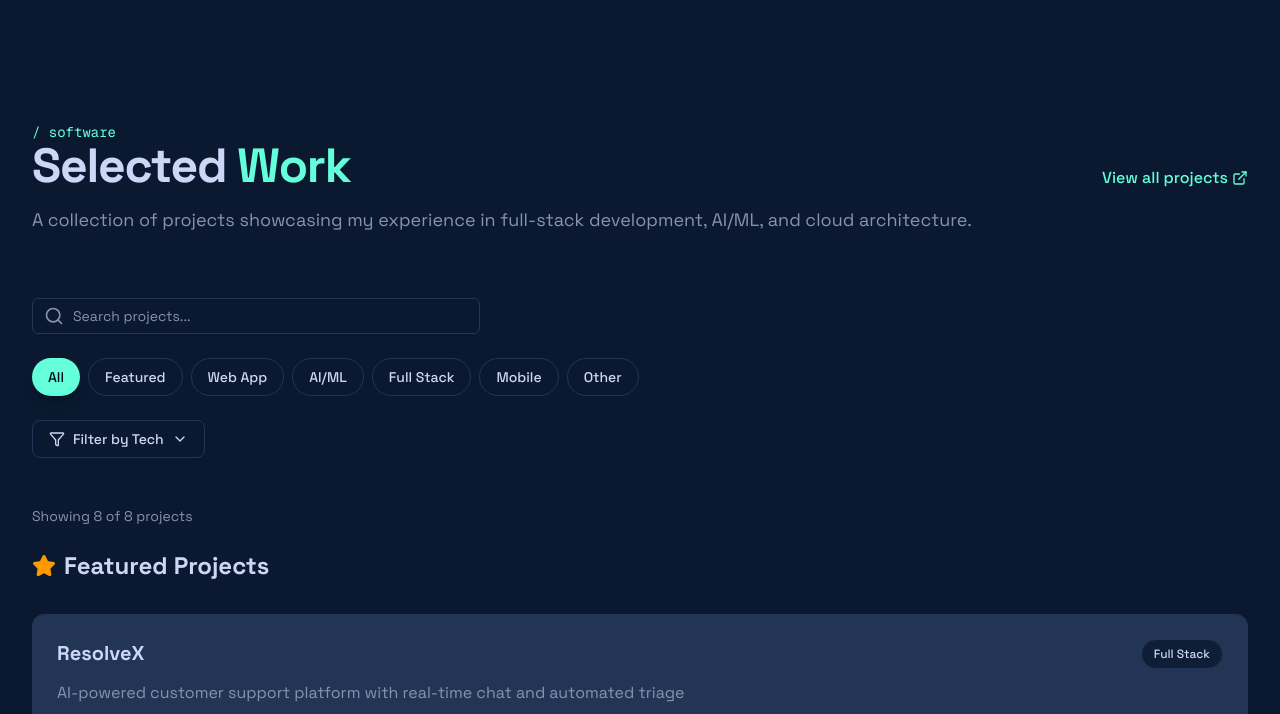
Test: Projects Section › filters projects by category
Click the button "AI/ML": (328, 377) [292,358,364,396]
(page scrolled)
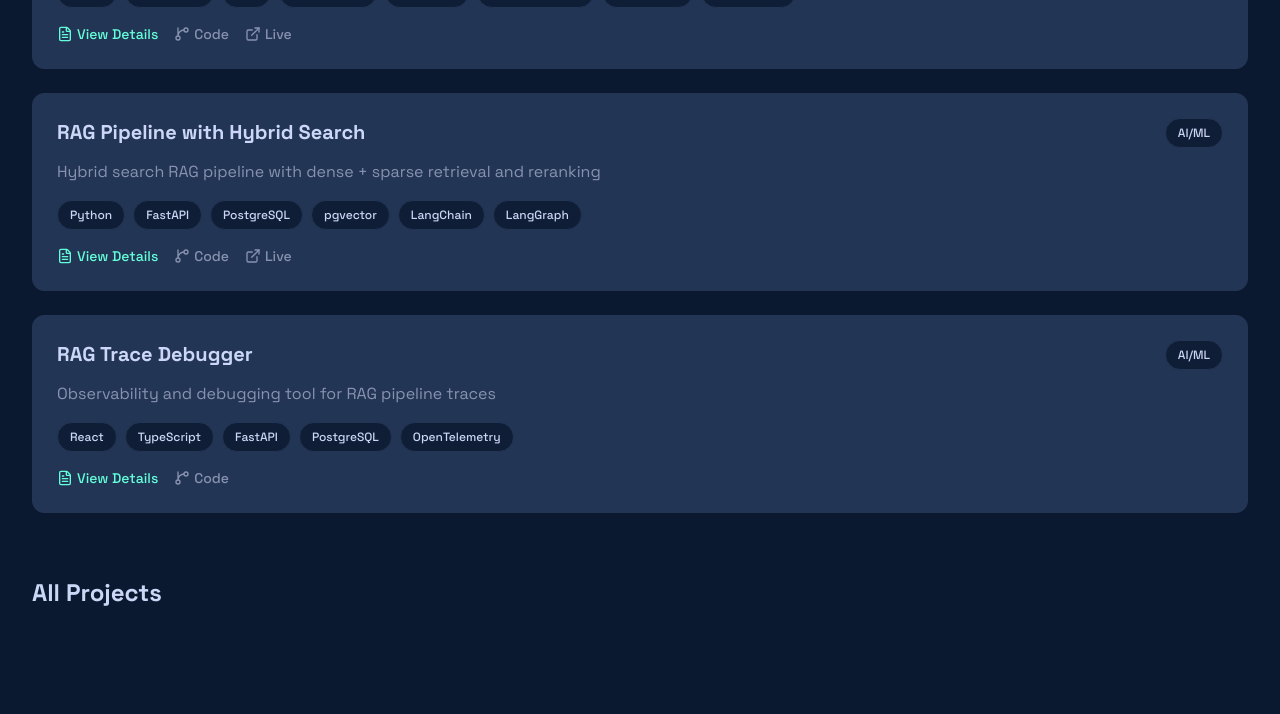
Check: the heading "RAG Pipeline with Hybrid Search" is shown, box [57,119,365,145]
Check: the link "ResolveX" is gone
